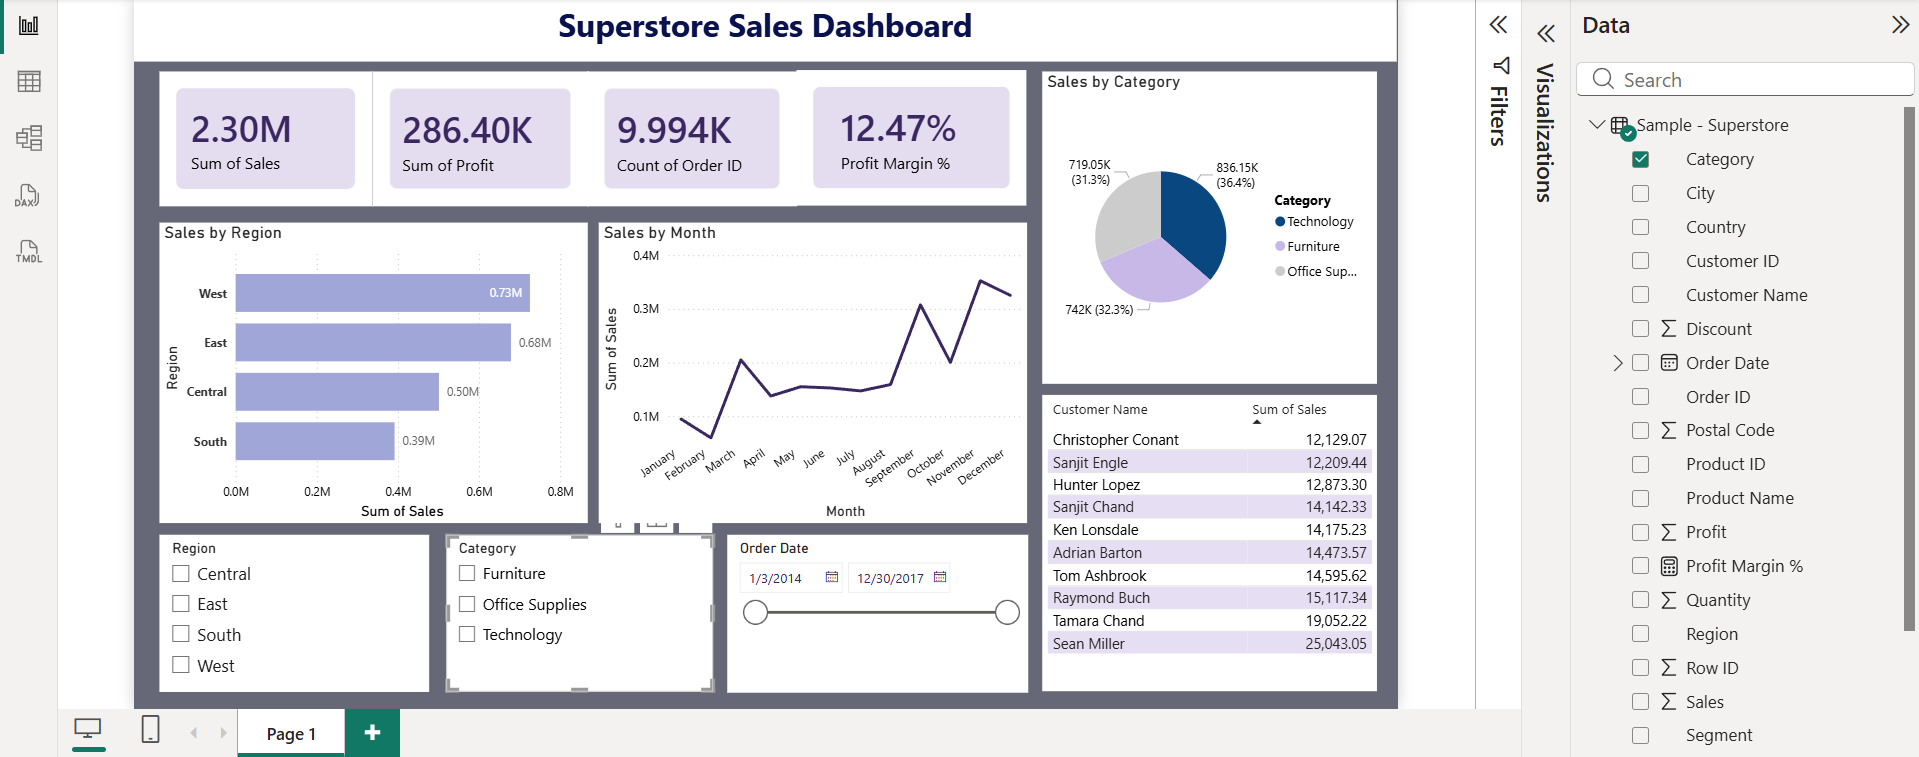

This screenshot's page, from the dashboard's own definition file:
{"tool":"powerbi","page":{"name":"Page 1","canvas":[1280,720],"ordinal":0},"visuals":[{"type":"cardVisual","fields":{"Data":["Sum(Sample - Superstore.Sales)"]},"box":[25.9,74.7,215.6,136.6],"z":0},{"type":"cardVisual","fields":{"Data":["Sum(Sample - Superstore.Profit)"]},"box":[241.5,74.7,218.5,136.6],"z":1000},{"type":"cardVisual","fields":{"Data":["CountNonNull(Sample - Superstore.Order ID)"]},"box":[460,74.7,212.7,136.6],"z":2000},{"type":"clusteredBarChart","title":"Sales by Region","fields":{"Category":["Sample - Superstore.Region"],"Y":["Sum(Sample - Superstore.Sales)"]},"box":[25.9,227.1,434.1,304.7],"z":3000},{"type":"pieChart","title":"Sales by Category","fields":{"Category":["Sample - Superstore.Category"],"Y":["Sum(Sample - Superstore.Sales)"]},"box":[920,74.7,339.2,316.2],"z":4000},{"type":"slicer","fields":{"Values":["Sample - Superstore.Region"]},"box":[25.9,543.4,273.1,159.6],"z":5000},{"type":"slicer","fields":{"Values":["Sample - Superstore.Category"]},"box":[316.2,543.4,270.2,159.6],"z":6000},{"type":"slicer","fields":{"Values":["Sample - Superstore.Order Date"]},"box":[600.9,543.4,304.7,159.6],"z":7000},{"type":"lineChart","title":"Sales by Month","fields":{"Category":["Sample - Superstore.Order Date.Variation.Date Hierarchy.Month"],"Y":["Sum(Sample - Superstore.Sales)"]},"box":[471.5,227.1,434.1,304.7],"z":8000},{"type":"textbox","box":[0,0,1279.3,64.7],"z":9000},{"type":"cardVisual","fields":{"Data":["Sample - Superstore.Profit Margin %"]},"box":[672.7,74.7,232.9,136.6],"z":10000},{"type":"tableEx","fields":{"Values":["Sample - Superstore.Customer Name","Sum(Sample - Superstore.Sales)"]},"box":[920,402.5,339.2,300.4],"z":11000}]}

Visuals, with their boxes in screenshot pixels (x1, y1, x2, y2):
cardVisual - Sum(Sample - Superstore.Sales): 151, 64, 366, 201
cardVisual - Sum(Sample - Superstore.Profit): 366, 64, 584, 201
cardVisual - CountNonNull(Sample - Superstore.Order ID): 584, 64, 796, 201
"Sales by Region" clusteredBarChart: 151, 216, 584, 520
"Sales by Category" pieChart: 1042, 64, 1380, 380
slicer - Sample - Superstore.Region: 151, 532, 423, 691
slicer - Sample - Superstore.Category: 440, 532, 710, 691
slicer - Sample - Superstore.Order Date: 724, 532, 1028, 691
"Sales by Month" lineChart: 595, 216, 1028, 520
textbox: 125, 0, 1400, 55
cardVisual - Sample - Superstore.Profit Margin %: 796, 64, 1028, 201
tableEx - Sample - Superstore.Customer Name x Sum(Sample - Superstore.Sales): 1042, 391, 1380, 691
